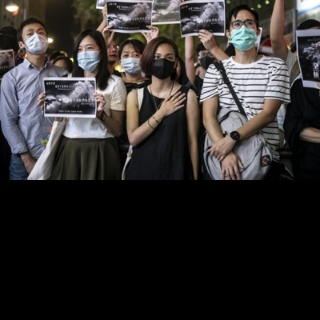with_mask: (230, 16, 257, 52), (150, 52, 176, 82), (76, 42, 100, 72), (23, 27, 49, 54), (120, 49, 141, 75), (199, 52, 217, 70)
